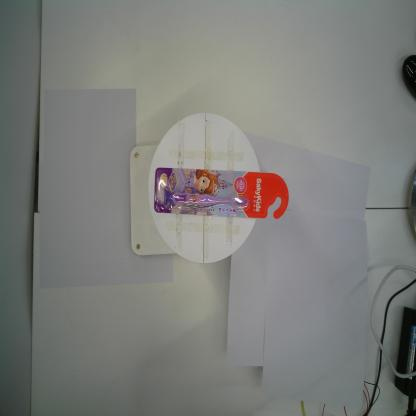Personal Hygiene: (154, 167, 289, 219)
